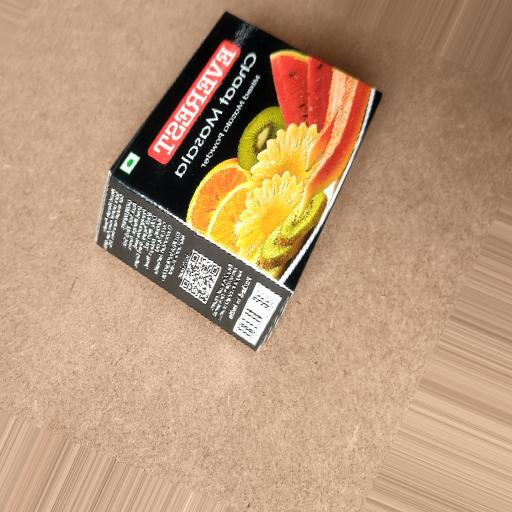Everest Chaat Masala: (65, 6, 399, 382)
